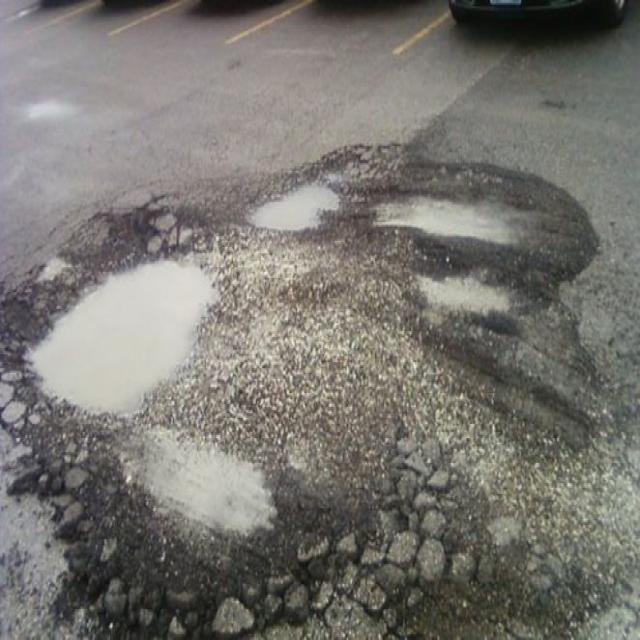Pothole: (20, 207, 229, 419), (123, 430, 305, 559), (360, 175, 543, 250), (239, 164, 344, 234), (411, 258, 525, 320)
